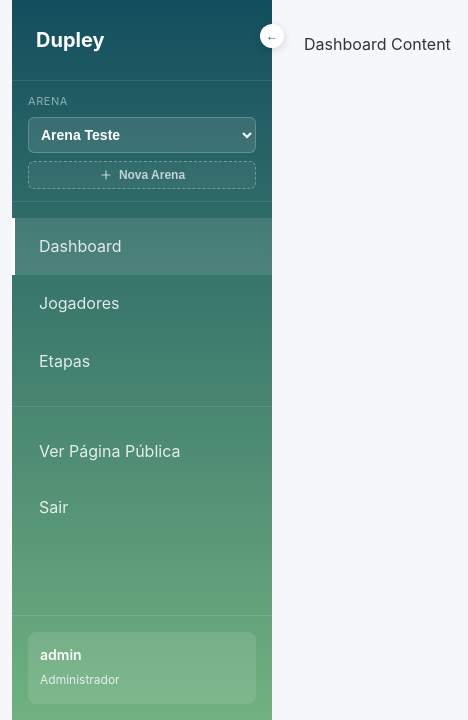
Test: AdminLayout › navegação › deve navegar para jogadores ao clicar
Click the link "Jogadores". click: click(79, 303)
box: top-left (39, 293), bottom-right (120, 313)
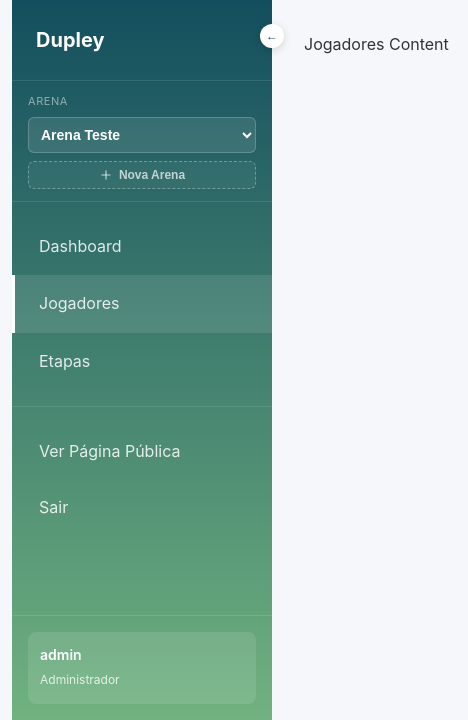
Expected: the text "Jogadores Content" is shown, top-left (304, 34), bottom-right (449, 54)
